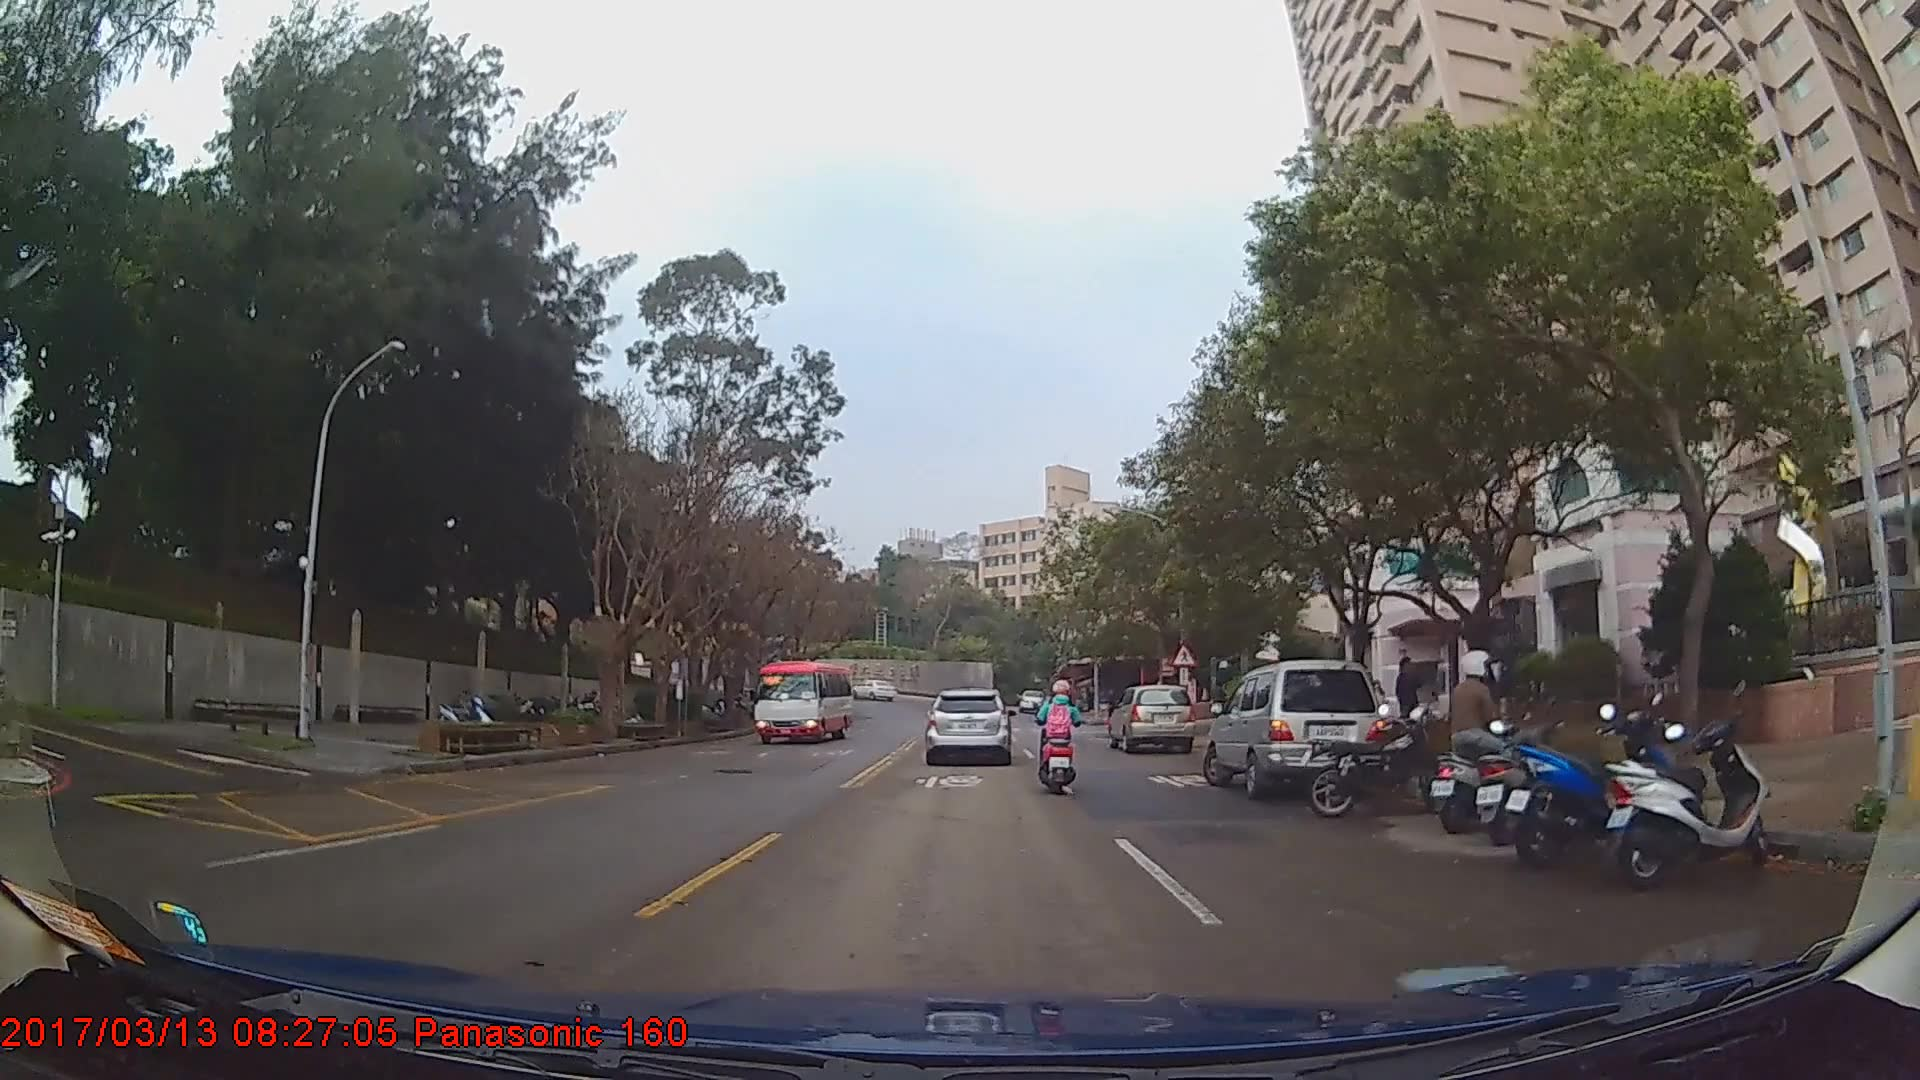pedestrian: (1396, 655, 1423, 735)
rider: (1033, 668, 1087, 798)
vehicle: (1205, 656, 1390, 797), (754, 659, 853, 743), (923, 684, 1012, 764), (1108, 684, 1193, 753), (850, 675, 896, 701)
